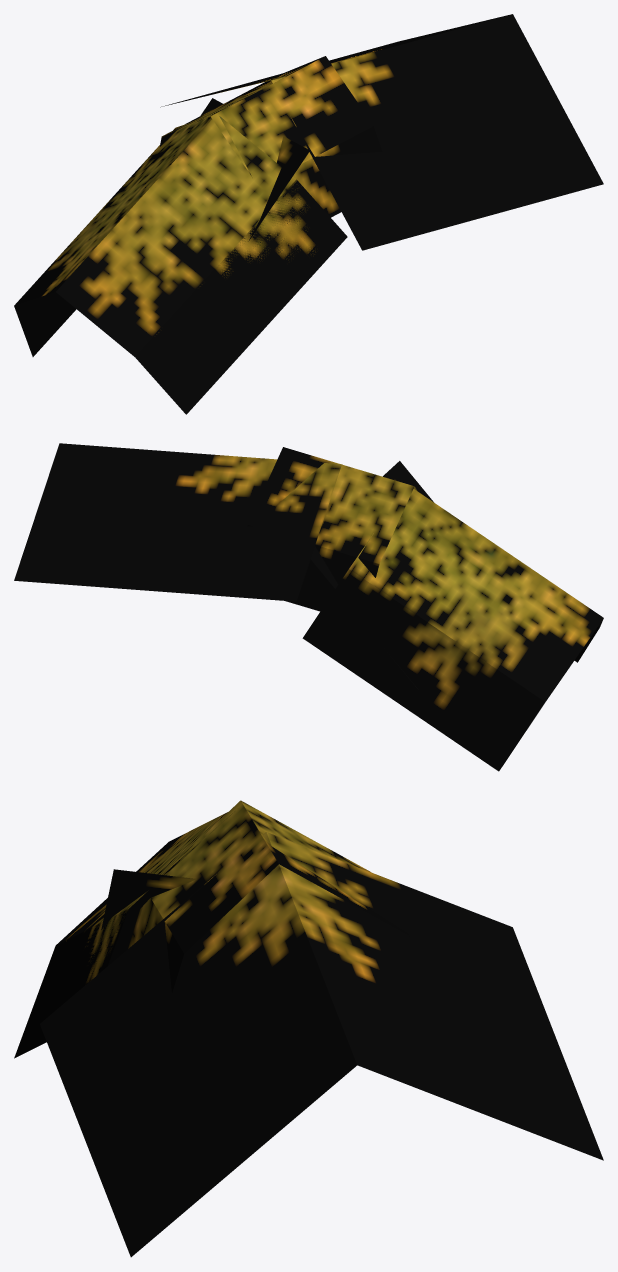
The model's file is larch_leaves_slab_3.obj.
3 views of the same model, one above another, from view 1: azimuth 30°, elevation 25°; view 2: azimuth 150°, elevation 25°; view 3: azimuth 270°, elevation 25° (orthographic). The views are drawn at different scales.
Visible parts, largest first — view 1: plane, cube; view 2: plane, cube; view 3: plane, cube.
Part boxes in pixels (<box>): plane: <box>14,14,603,414</box>; cube: <box>200,98,309,241</box>; plane: <box>14,443,603,771</box>; cube: <box>311,461,433,689</box>; plane: <box>14,800,603,1257</box>; cube: <box>101,869,196,965</box>.
Size of the model in its own units: 2.89 by 1.34 by 1.83.
